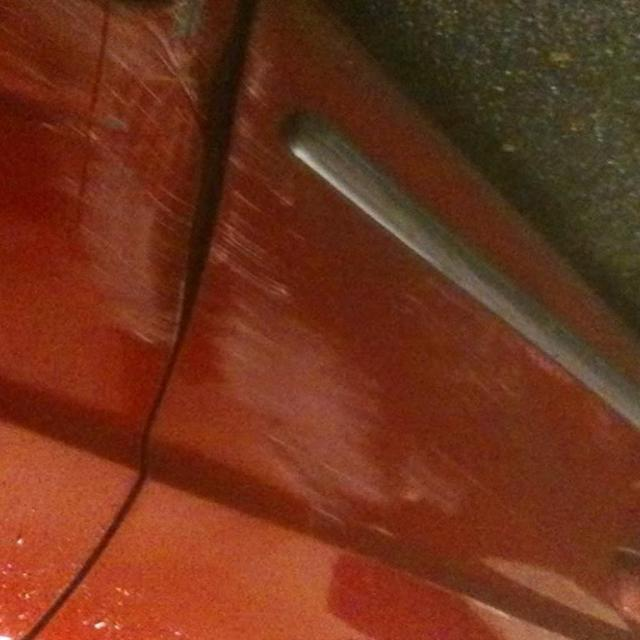scratch: (0, 0, 495, 534)
